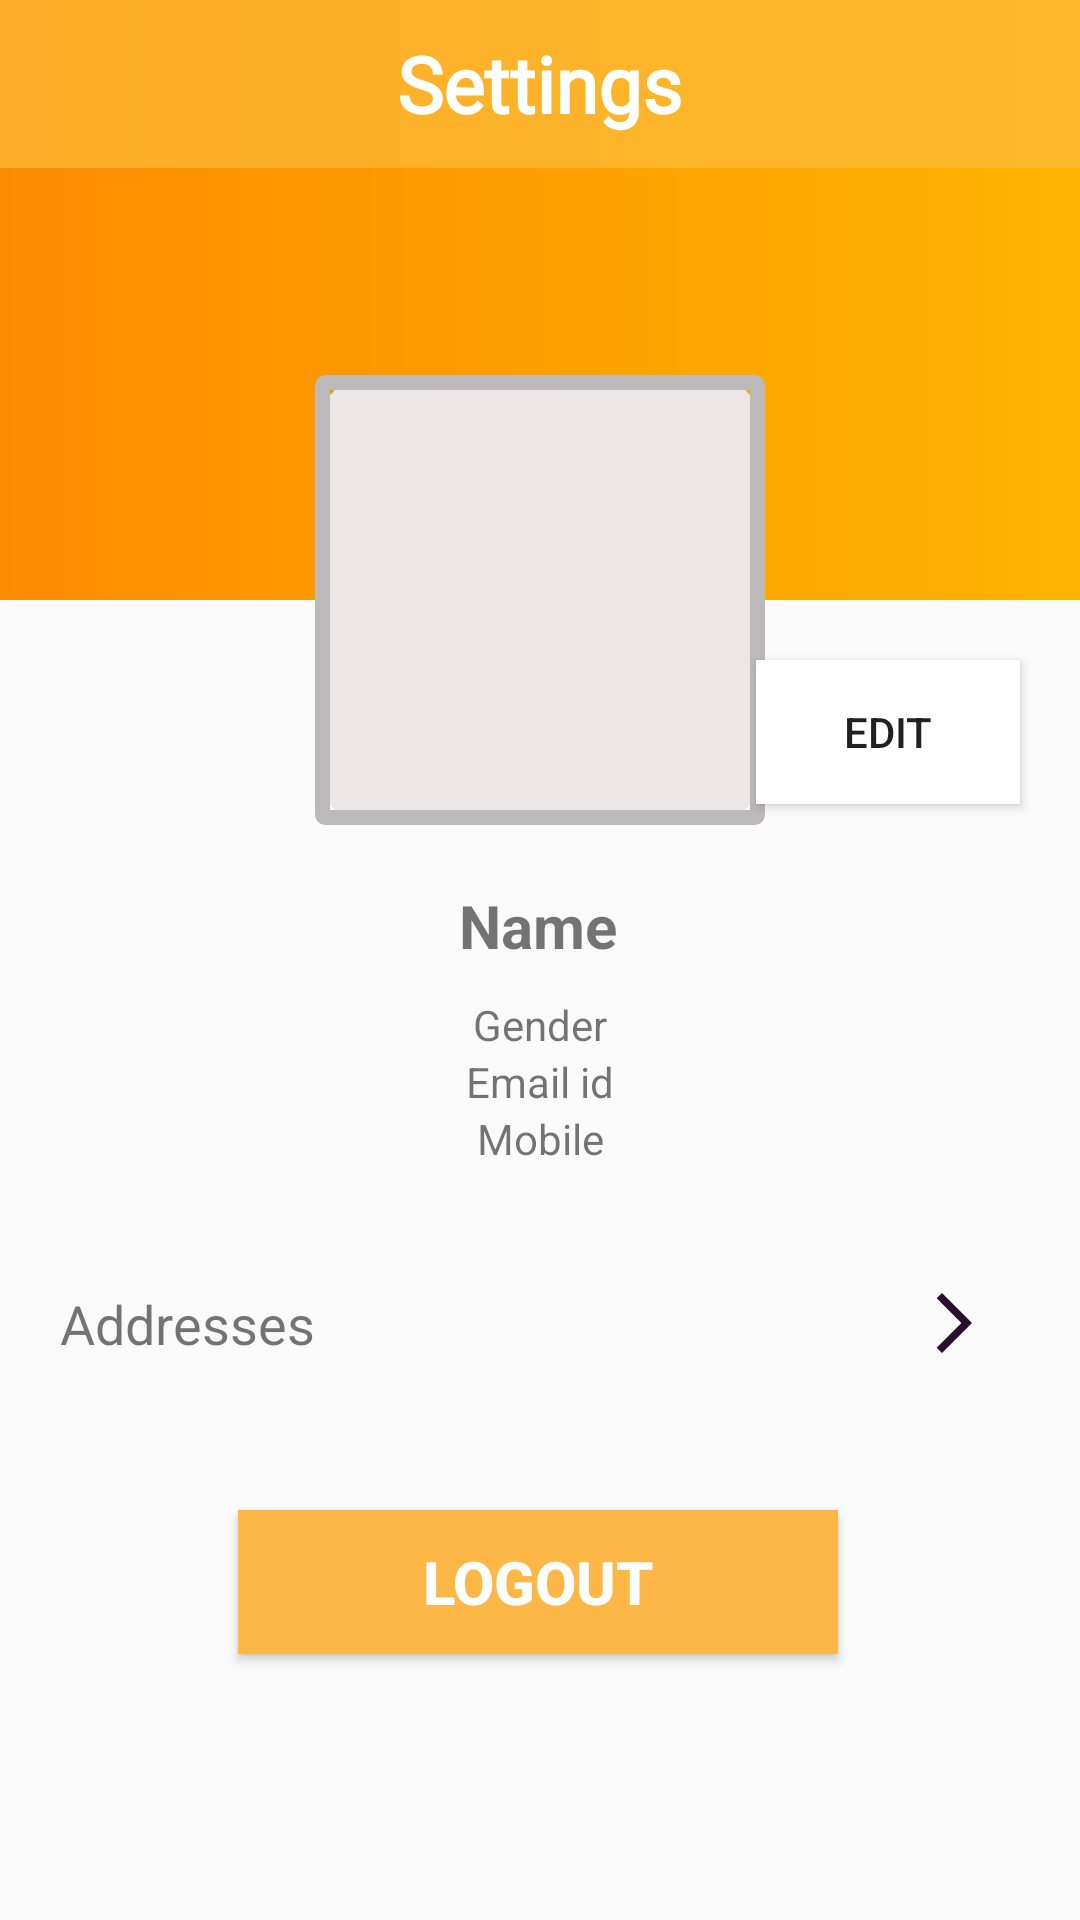

Named icons in this screenshot (1080 x 1920) and their bounding boxes, (x1, y1, x2, y2):
arrow forward: (937, 1293, 972, 1353)
